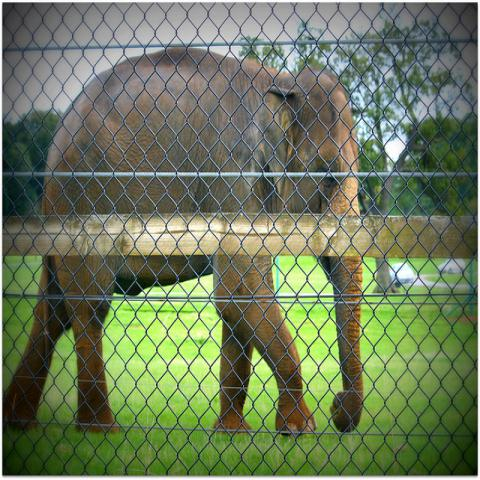car: (390, 262, 415, 284)
